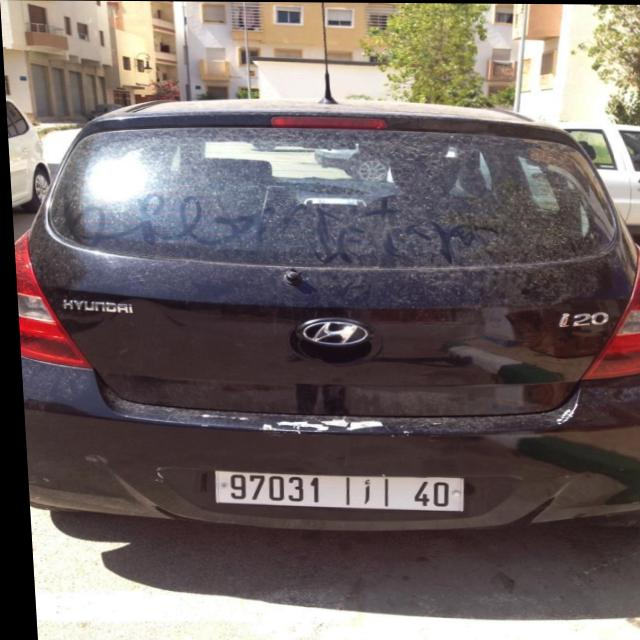License-Plate: (209, 470, 457, 511)
